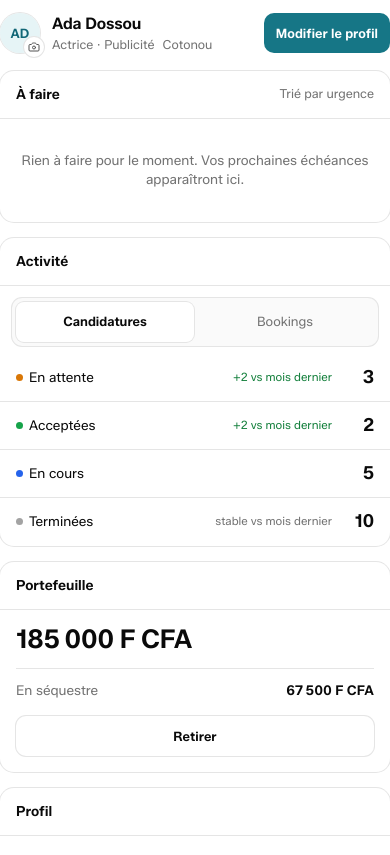
Test case: FaceDashboardPage › matrice d’activité › propose un contrôle segmenté Candidatures | Bookings sur mobile
The width and height of the screenshot is (390, 855).
Expected: the list item "En attente +2 vs mois dernier 3" is shown, [0,354,389,402]
Click the radio button labelled "Bookings" at x=285, y=322, box [196,302,374,342]
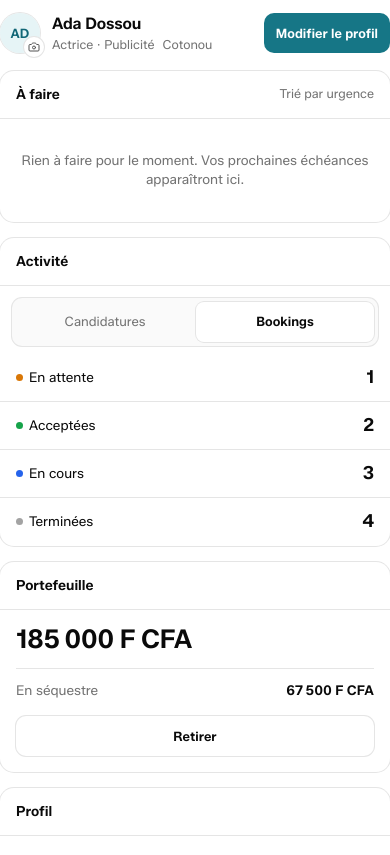
Result: the list item "En attente 1" is shown at [0,354,389,402]
